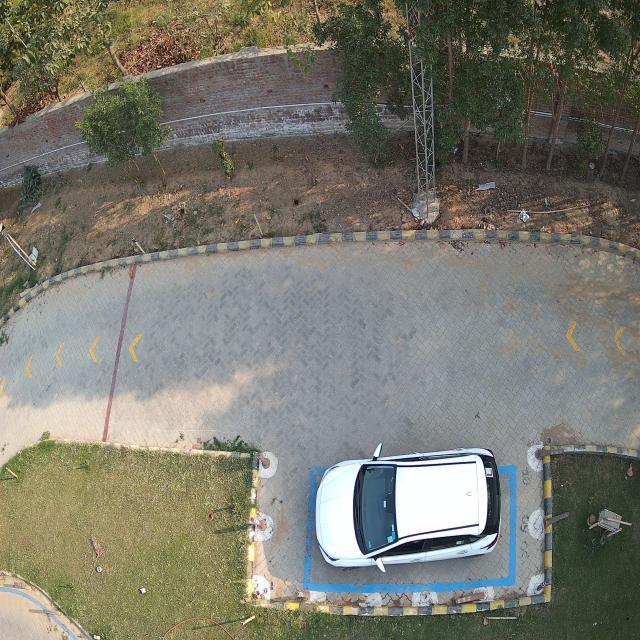car: (313, 449, 505, 568)
